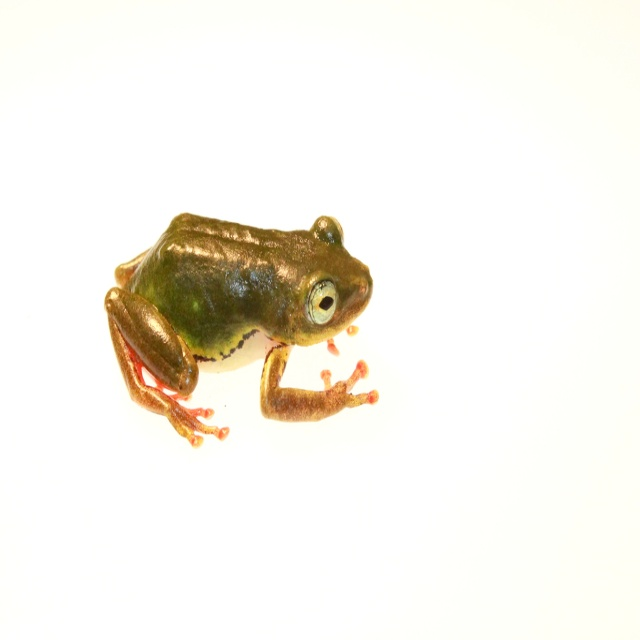Frog: (102, 211, 380, 450)
